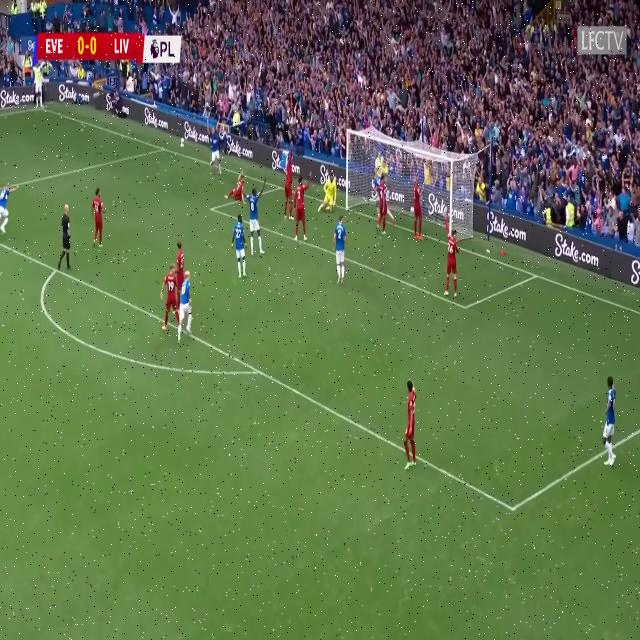Ball: (411, 206, 414, 214)
GoalKeeper: (318, 170, 337, 213)
Referee: (56, 200, 76, 276)
TEAM 1: (398, 379, 421, 468), (441, 226, 464, 301), (160, 264, 180, 340), (281, 140, 297, 222), (290, 175, 308, 240), (89, 185, 106, 249), (220, 170, 247, 207), (410, 185, 427, 240), (376, 173, 391, 234), (176, 242, 184, 294)
TEAM 2: (243, 178, 269, 256), (599, 374, 618, 467), (177, 266, 194, 338), (230, 217, 248, 282), (332, 213, 347, 286), (206, 116, 222, 176), (1, 183, 14, 247), (371, 171, 379, 196)
